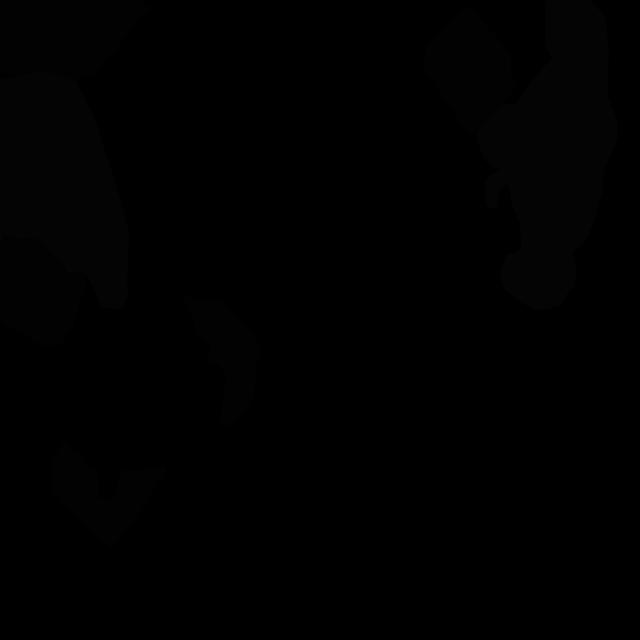cardboard: (51, 441, 167, 549), (423, 7, 517, 135), (183, 295, 261, 426), (0, 236, 87, 347)
soft_plastic: (476, 0, 618, 309), (0, 70, 129, 310)
